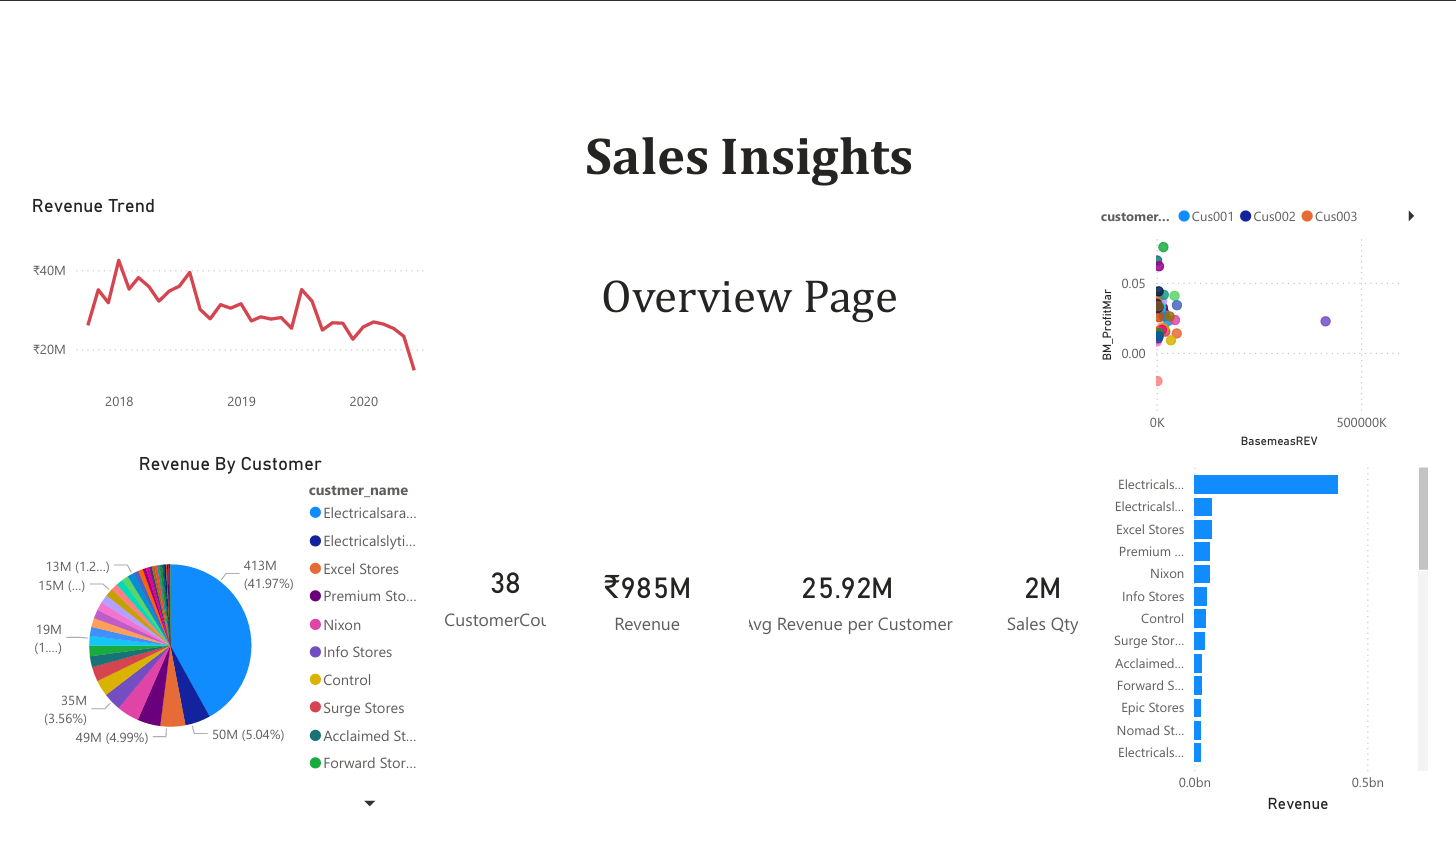

What the dashboard file says about the page in this screenshot:
{"tool":"powerbi","page":{"name":"Page 1","canvas":[1280,720],"ordinal":0},"visuals":[{"type":"card","fields":{"Values":["BaseMeasures (2).CustomerCount"]},"box":[370.9,465.1,130.2,102.3],"z":0},{"type":"card","fields":{"Values":["BaseMeasures (2).Avg Revenue per Customer"]},"box":[639.5,473.3,215.1,94.2],"z":1000},{"type":"pieChart","title":"Revenue By Customer","fields":{"Category":["sales customers.custmer_name"],"Y":["BaseMeasures (2).BasemeasREV"]},"box":[0,388.4,370.9,331.4],"z":2000},{"type":"barChart","fields":{"Category":["sales customers.custmer_name"],"Y":["BaseMeasures (2).BasemeasREV"]},"box":[973.3,388.4,307,331.4],"z":3000},{"type":"scatterChart","fields":{"Y":["BaseMeasures (2).BM_ProfitMar"],"X":["BaseMeasures (2).BasemeasREV"],"Series":["sales customers.customer_code"]},"box":[973.3,153.5,307,234.9],"z":4000},{"type":"card","fields":{"Values":["BaseMeasures (2).Revenue"]},"box":[473.3,473.3,183.7,94.2],"z":5000},{"type":"card","fields":{"Values":["BaseMeasures (2).Sales Qty"]},"box":[865.1,473.3,119.8,94.2],"z":6000},{"type":"lineChart","title":"Revenue Trend","fields":{"Y":["BaseMeasures (2).Revenue"],"Category":["sales date.cy_date"]},"box":[0,153.5,370.9,207],"z":7000},{"type":"textbox","box":[432.6,82.6,450,207],"z":8000}]}

Visuals, with their boxes in screenshot pixels (x1, y1, x2, y2), scaled from the page's 1280x720 canvas onto the 1456x842 screenshot:
card - BaseMeasures (2).CustomerCount: 422:544:570:664
card - BaseMeasures (2).Avg Revenue per Customer: 727:553:972:664
"Revenue By Customer" pieChart: 0:454:422:841
barChart - sales customers.custmer_name x BaseMeasures (2).BasemeasREV: 1107:454:1455:841
scatterChart - BaseMeasures (2).BM_ProfitMar x BaseMeasures (2).BasemeasREV: 1107:180:1455:454
card - BaseMeasures (2).Revenue: 538:553:747:664
card - BaseMeasures (2).Sales Qty: 984:553:1120:664
"Revenue Trend" lineChart: 0:180:422:422
textbox: 492:97:1004:339
